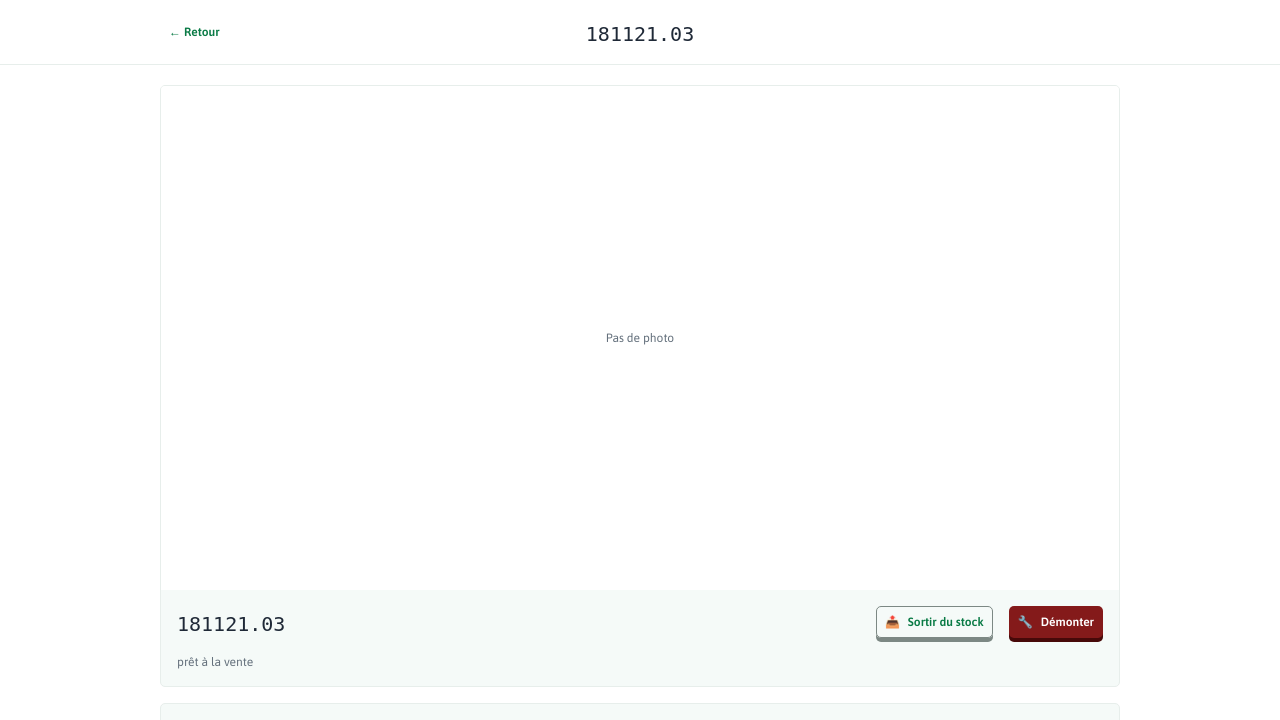
Test: une vente enregistre l'acheteur et le prix
This screenshot has width=1280, height=720.
Click the button "📤 Sortir du stock" at x=934, y=622, box [876,606,993,638]
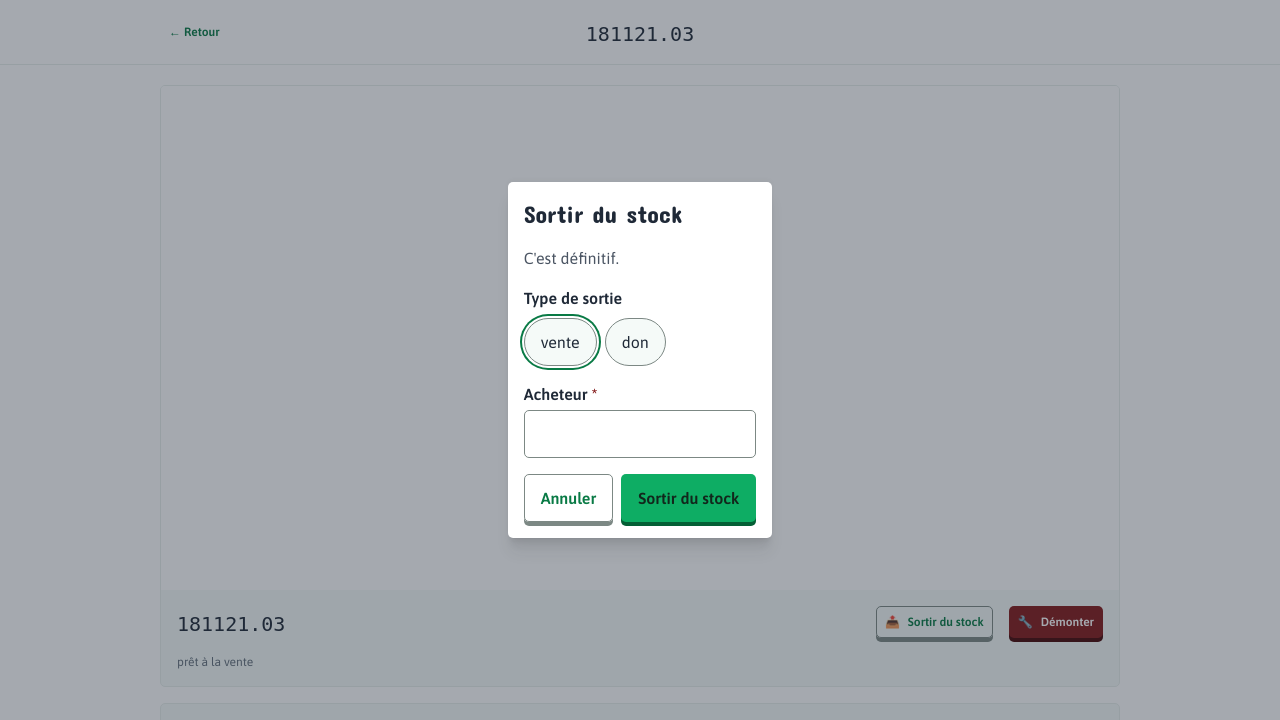
Click the radio button labelled "vente" at x=560, y=342, box [524,318,597,366]
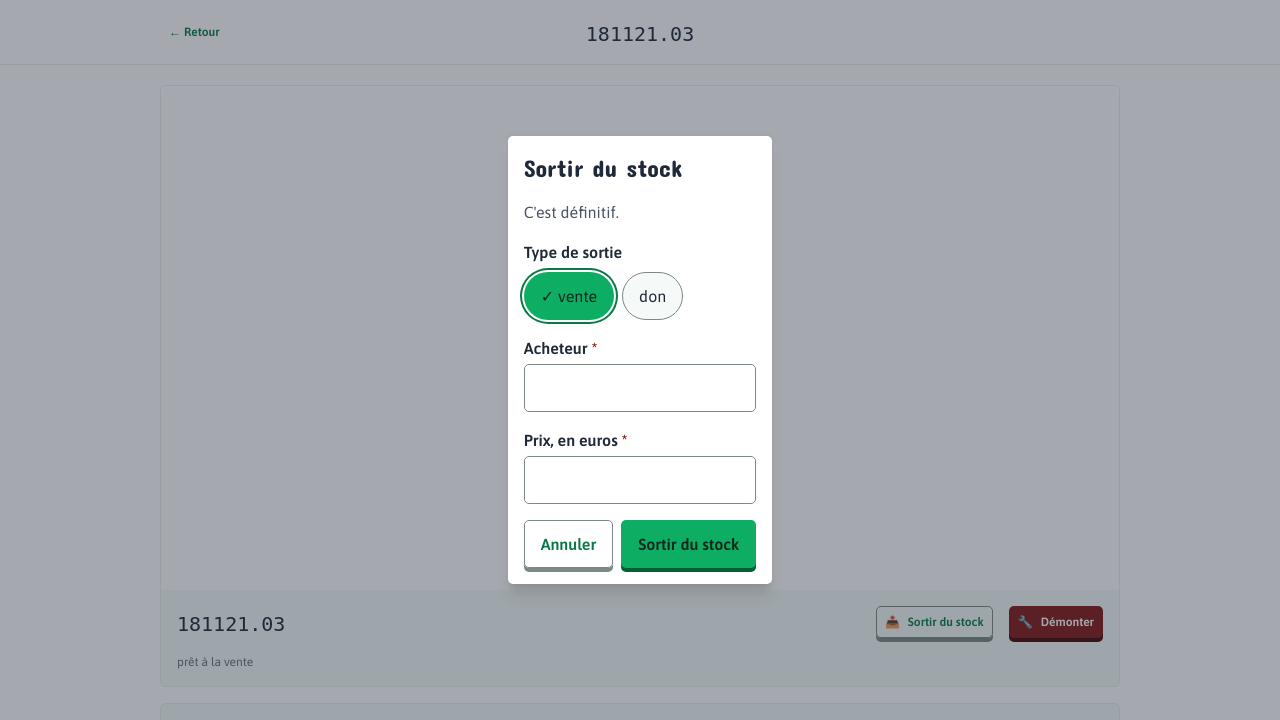
Type "Léa" into the field labelled "Acheteur" at x=640, y=388, box [524,364,756,412]
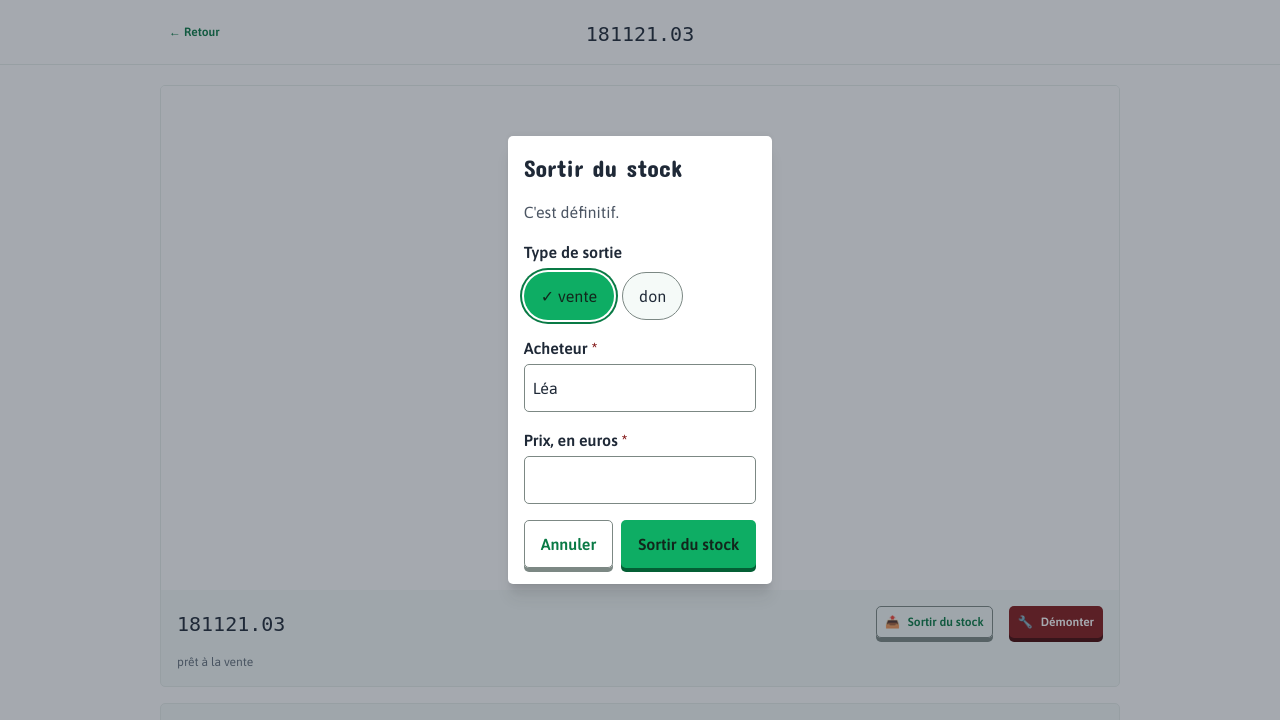
Type "120" into the number field labelled "Prix, en euros" at x=640, y=480, box [524,456,756,504]
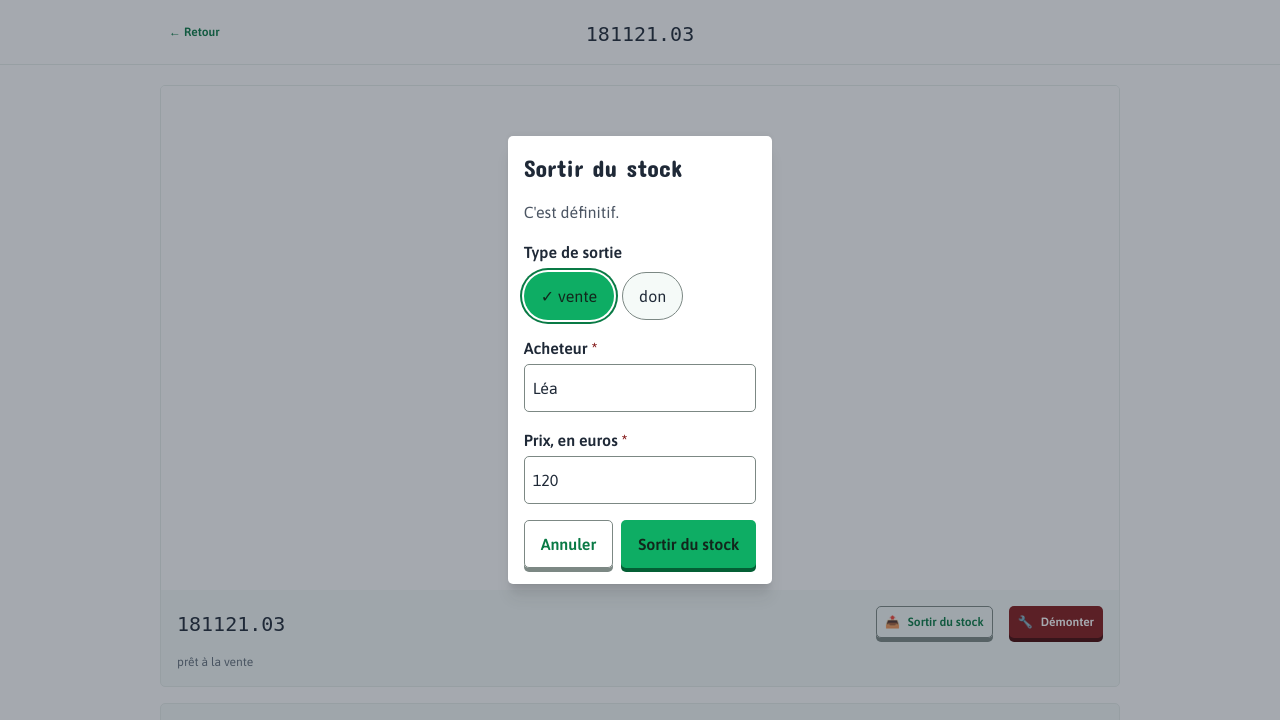
Click the button "Sortir du stock" at x=689, y=544, box [621,520,756,568]
(page scrolled)
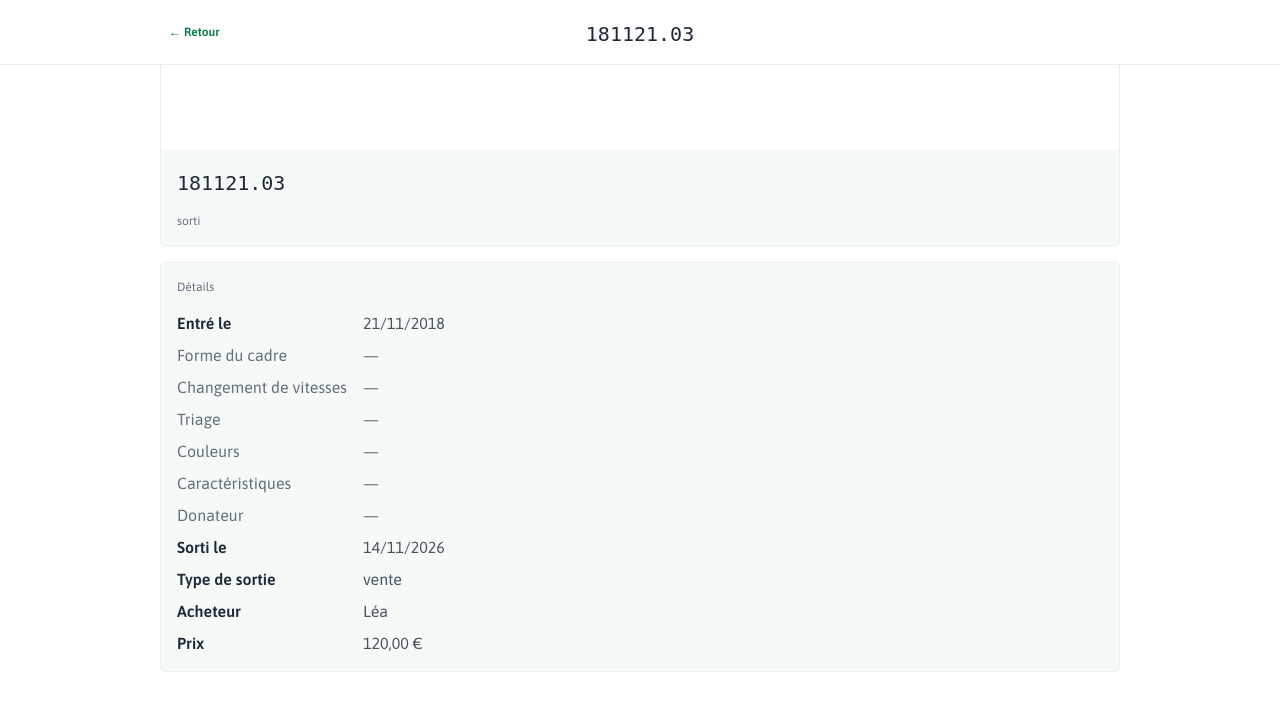
Expected: the text "Léa" is shown, [363,602,388,620]
